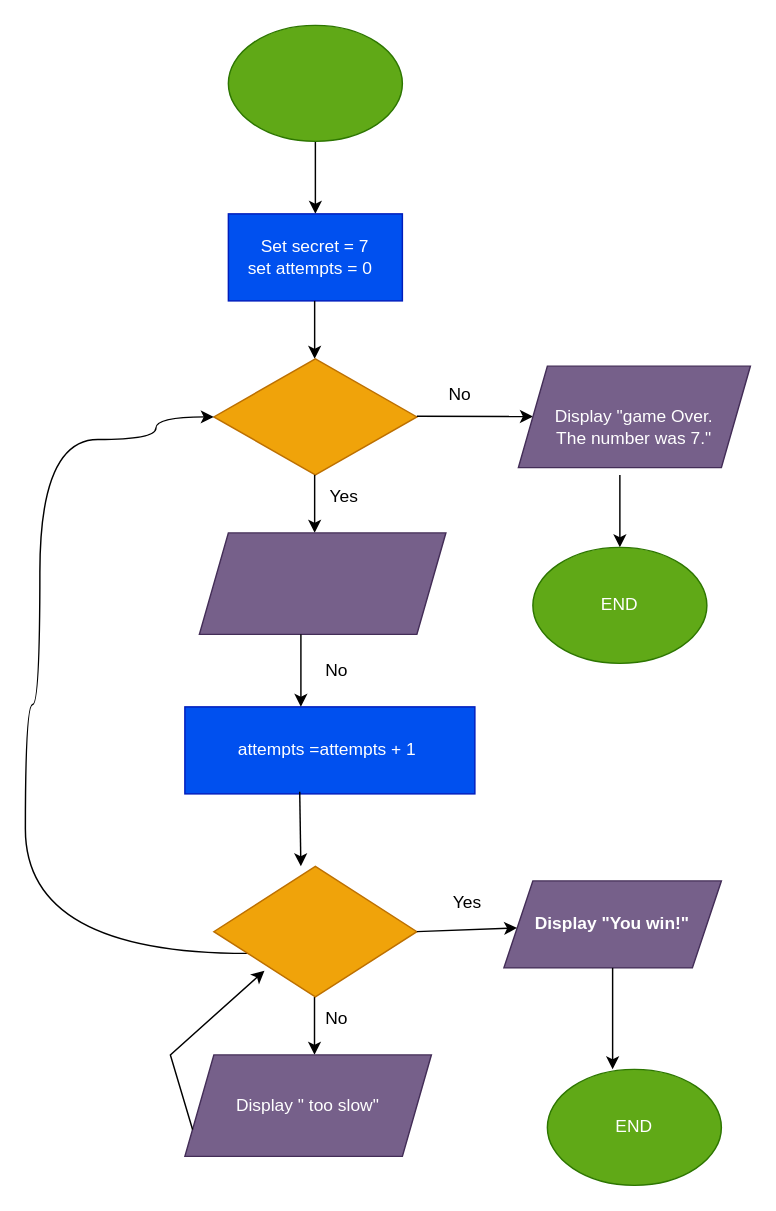
The diagram is 776 pixels wide and 1211 high, and some of its shapes have lost their labels. Each missing label, with the box of its shape:
is attempts <3?: (212, 357, 417, 475)
is guess == secret?: (212, 865, 417, 997)
Read guess (user enter a number): (198, 531, 446, 634)
START: (227, 24, 402, 141)
